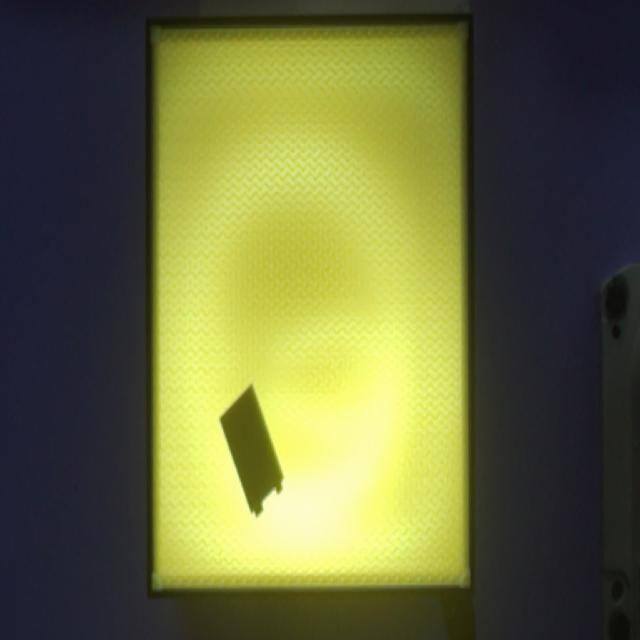bateria: (219, 382, 285, 518)
mesa: (146, 13, 474, 600)
